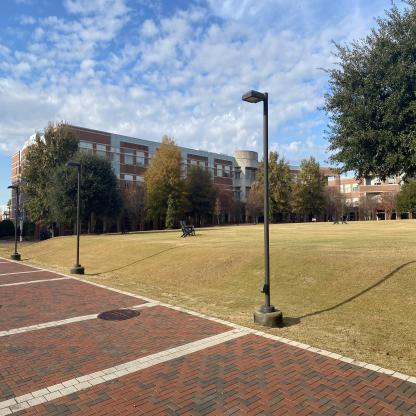EB-1: (9, 131, 344, 235)
